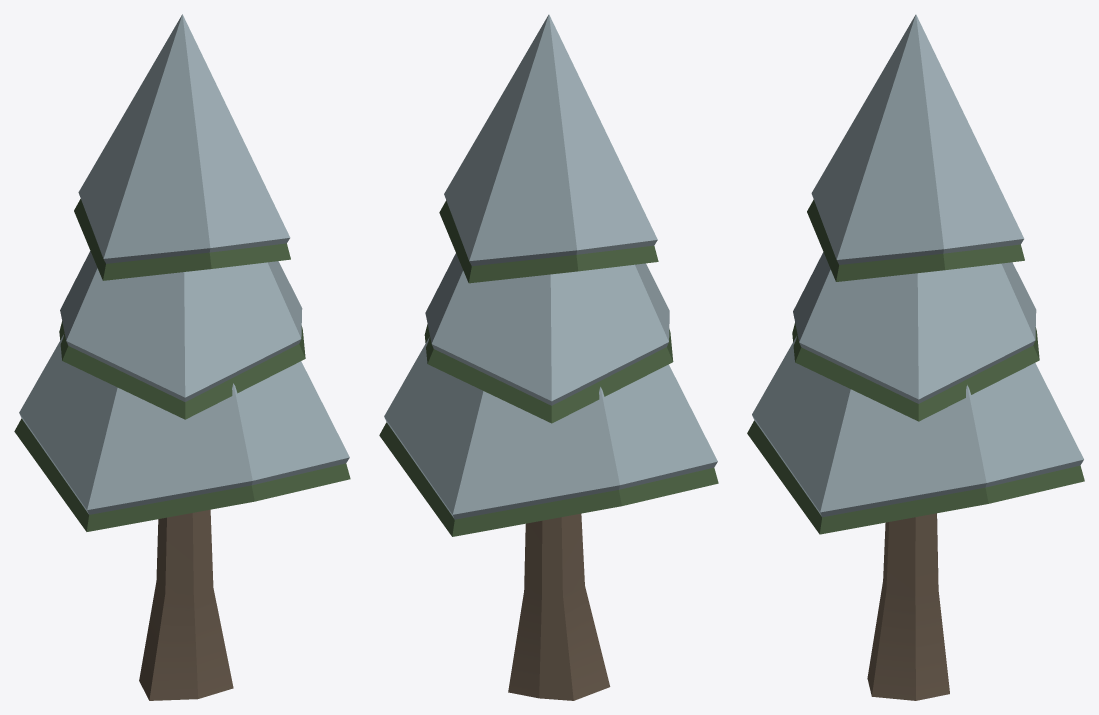
File: PineTree_HighlightTest.fbx
3 views of the same model, side by side, from view 1: azimuth 30°, elevation 25°; view 2: azimuth 150°, elevation 25°; view 3: azimuth 270°, elevation 25° (orthographic).
Visible parts, largest first — view 1: PineTreeMedium_Mesh1; view 2: PineTreeMedium_Mesh1; view 3: PineTreeMedium_Mesh1.
Boxes of the visible parts, bbox=[...] form: PineTreeMedium_Mesh1: bbox=[14, 14, 350, 700]; PineTreeMedium_Mesh1: bbox=[379, 14, 718, 700]; PineTreeMedium_Mesh1: bbox=[747, 14, 1084, 700].
Size of the model in its own units: 271 by 653 by 299.
